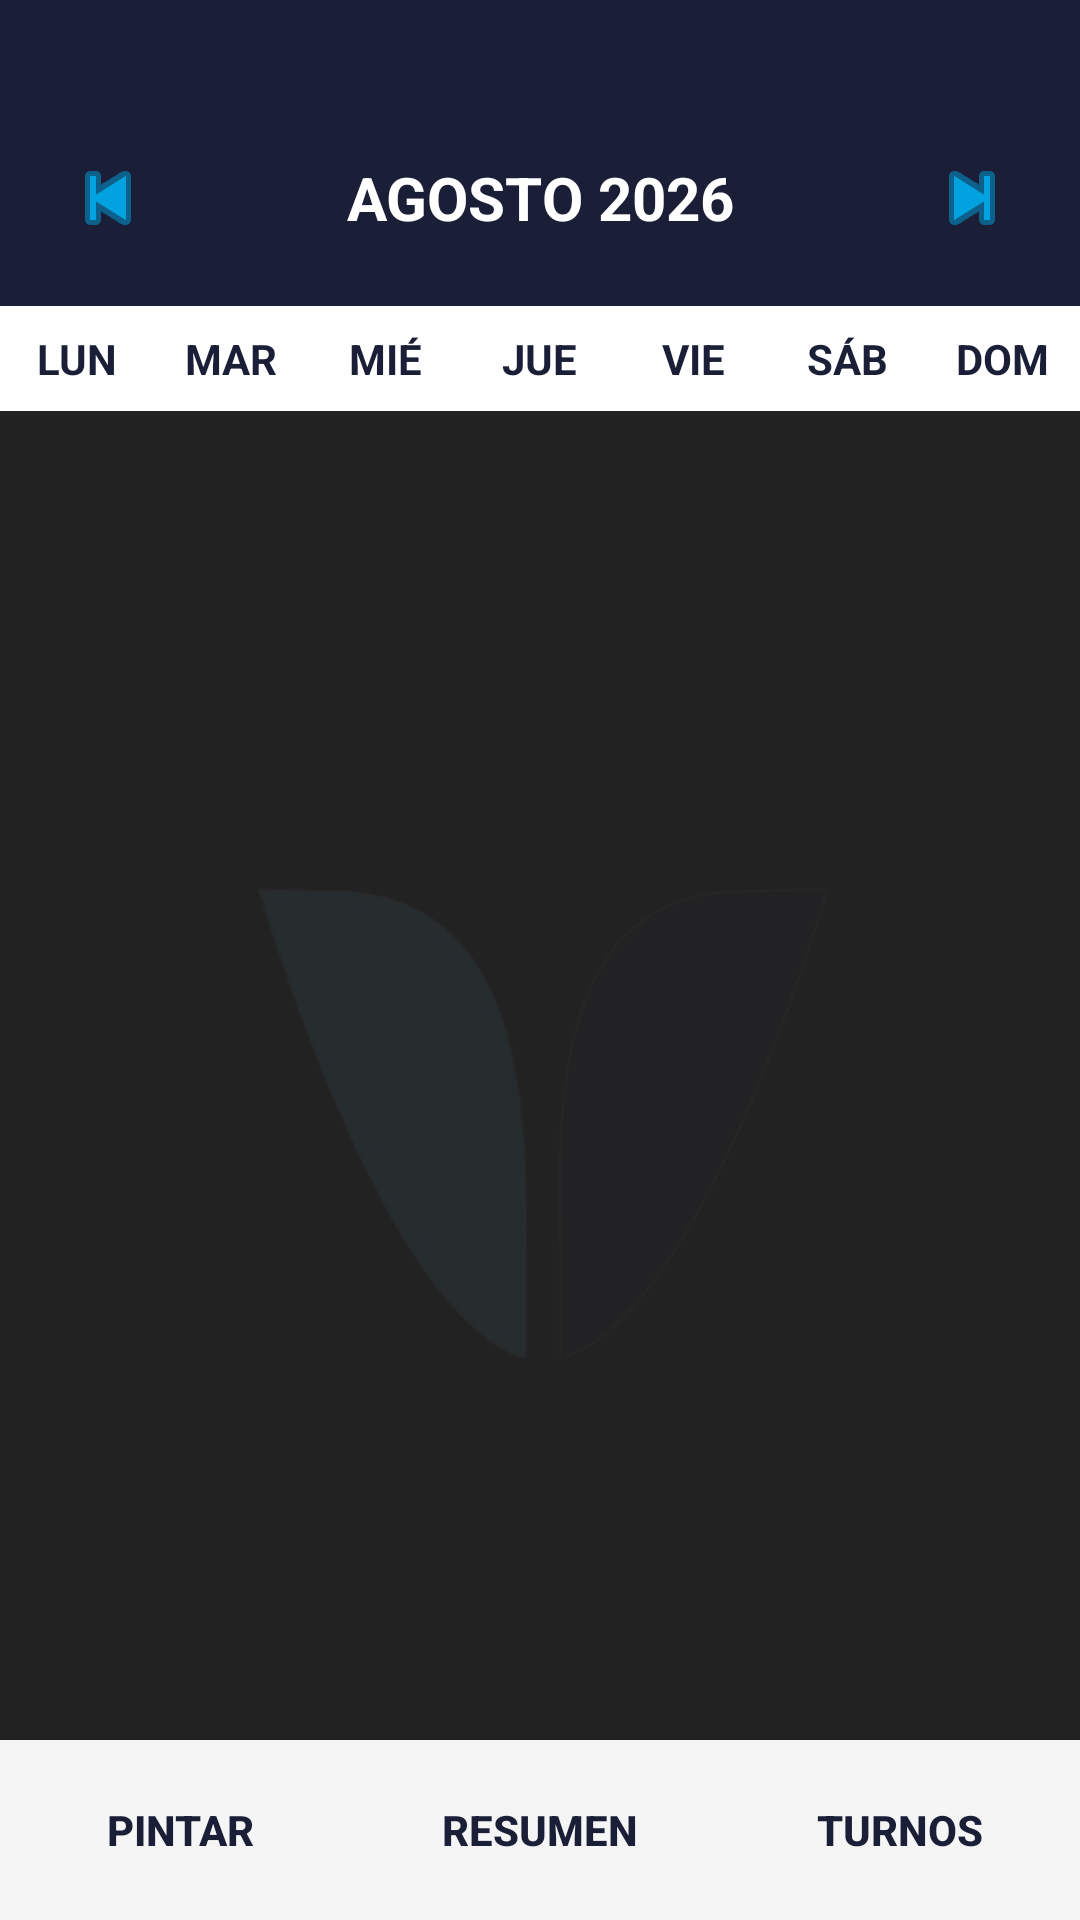

Icon click points for this 1080w x 1920h phone screenshot, format point (x, y):
Mes anterior: point (108, 198)
Mes siguiente: point (972, 198)
